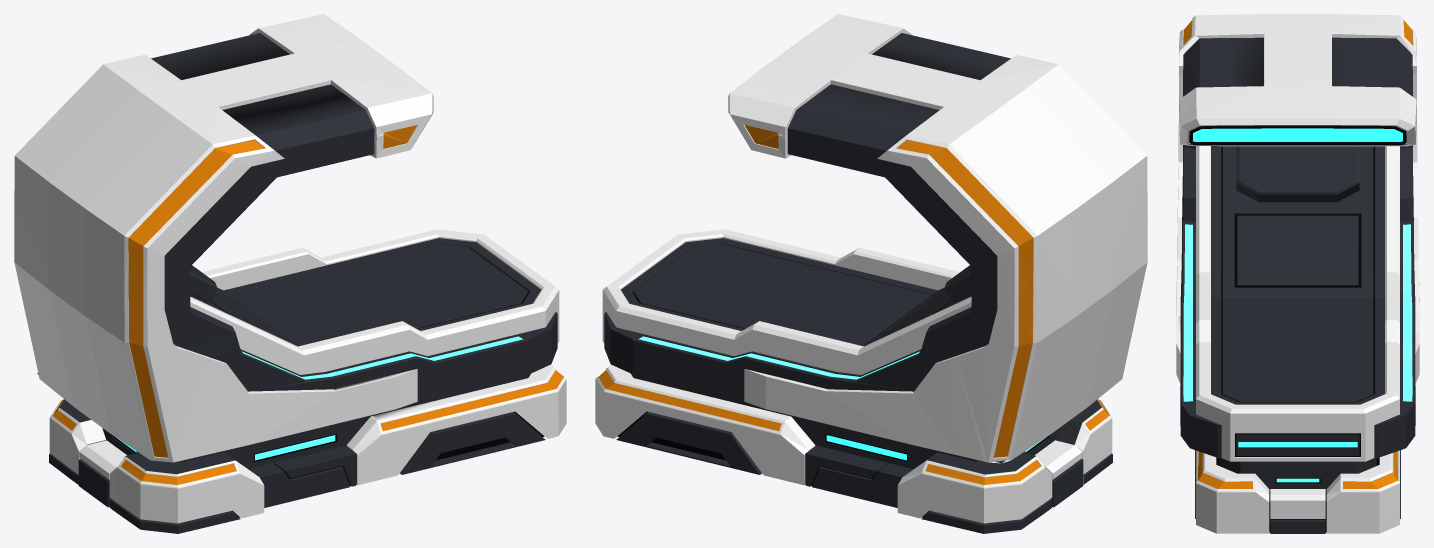
The model's file is slab.glb.
The picture shows the model from 3 angles, left to right: view 1: azimuth 30°, elevation 25°; view 2: azimuth 150°, elevation 25°; view 3: azimuth 270°, elevation 25°; orthographic projection. The views are drawn at different scales.
Parts seen in each view (by area): view 1: SM_MedPod_Treatment_Bed.001; view 2: SM_MedPod_Treatment_Bed.001; view 3: SM_MedPod_Treatment_Bed.001.
Part boxes in pixels (x1,y1,x2,y2): SM_MedPod_Treatment_Bed.001: (14,14,566,533); SM_MedPod_Treatment_Bed.001: (595,14,1147,533); SM_MedPod_Treatment_Bed.001: (1176,14,1419,533).
Size of the model in its own units: 2.17 by 1.72 by 1.07.
